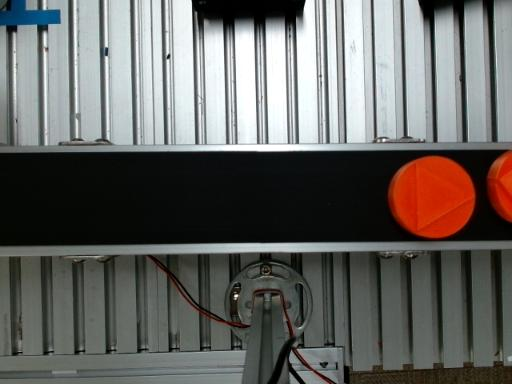Not_Square: (415, 161, 475, 232)
Orange_Waper: (388, 156, 476, 238), (484, 150, 511, 222)
